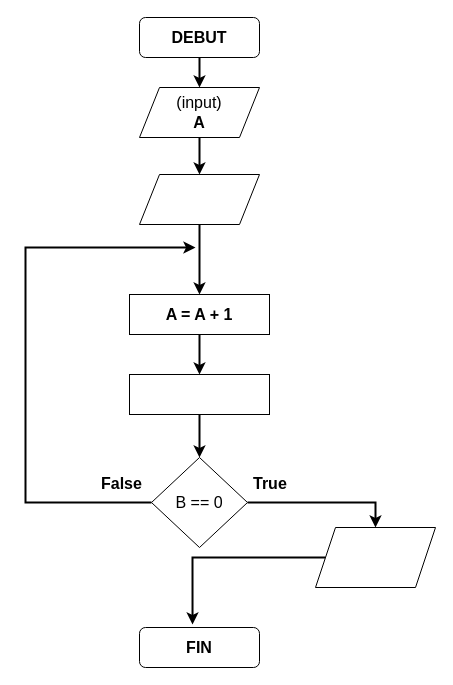
The diagram is 453 pixels wide and 685 high, and some of its shapes have lost their labels. Each missing label, with the centre of its shape:
(input) B: the point at 199,199
(output) A: the point at 375,557
B = B - 1: the point at 199,394
